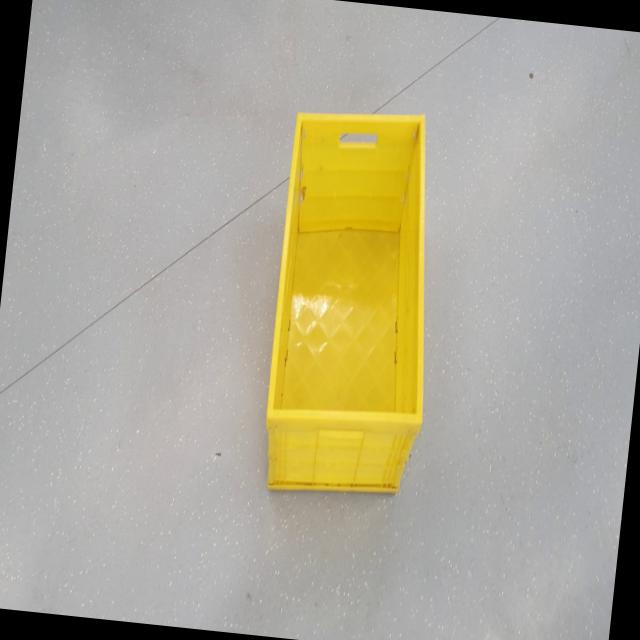box: (250, 78, 460, 515)
